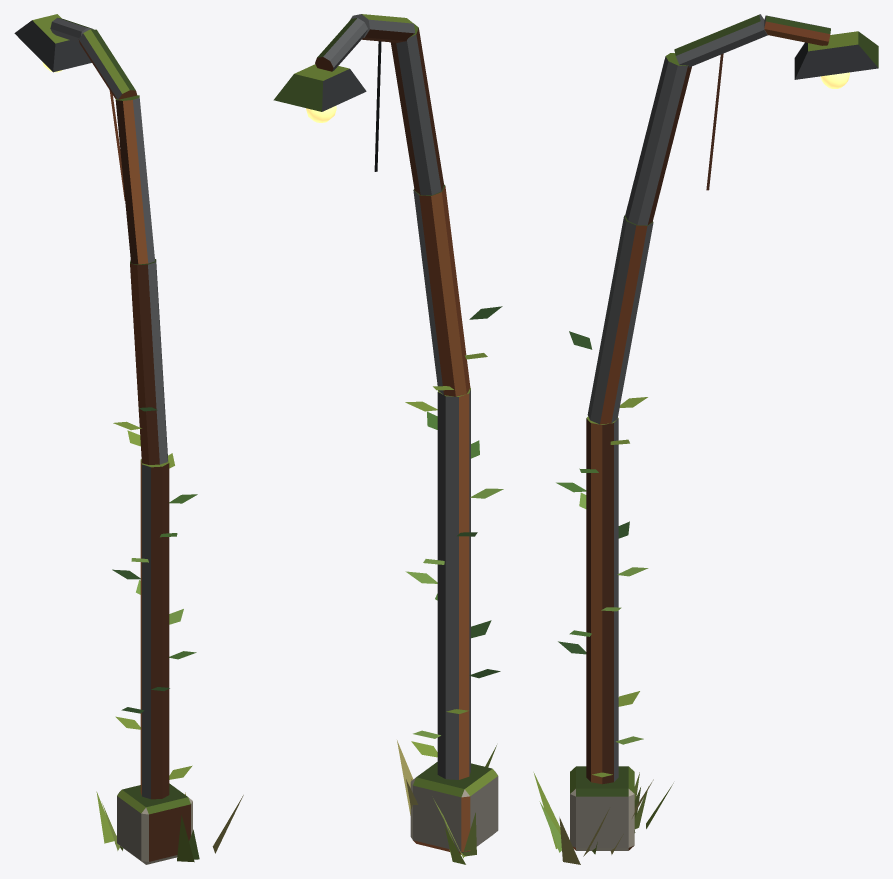
The model's file is street_lamp.glb.
The picture shows the model from 3 angles, left to right: view 1: azimuth 30°, elevation 25°; view 2: azimuth 150°, elevation 25°; view 3: azimuth 270°, elevation 25°; orthographic projection. The views are drawn at different scales.
Visible parts, largest first — view 1: lamp; view 2: lamp; view 3: lamp.
Boxes of the visible parts, x1,y1,x2,y2 form: lamp: [14, 14, 243, 864]; lamp: [273, 14, 503, 864]; lamp: [533, 14, 878, 864].
Size of the model in its own units: 0.6611 by 4.52 by 1.71.
